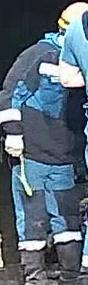helmet: (57, 1, 87, 30)
vest: (0, 33, 83, 182)
